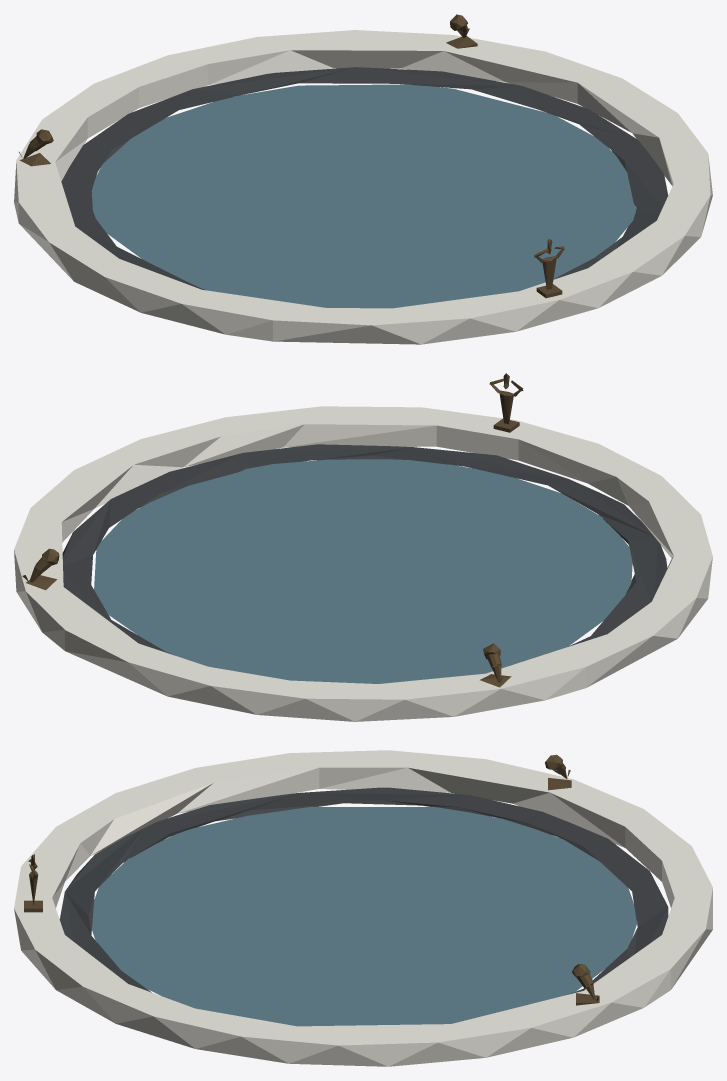
Rendered from waterdraagster-bellamyplein.lod1.glb.
3 views of the same model, one above another, from view 1: azimuth 30°, elevation 25°; view 2: azimuth 150°, elevation 25°; view 3: azimuth 270°, elevation 25° (orthographic).
Visible parts, largest first — view 1: waterdraagster-bellamyplein; view 2: waterdraagster-bellamyplein; view 3: waterdraagster-bellamyplein.
Part boxes in pixels (x1=…): waterdraagster-bellamyplein: x1=14, y1=14, x2=712, y2=344; waterdraagster-bellamyplein: x1=14, y1=373, x2=712, y2=721; waterdraagster-bellamyplein: x1=14, y1=750, x2=712, y2=1066.
Size of the model in its own units: 12.49 by 1.48 by 12.49.
